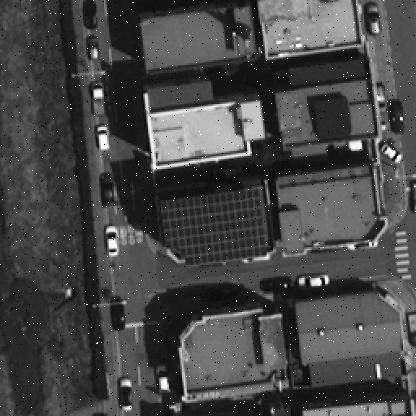solar-pv-panel: (161, 188, 267, 264)
